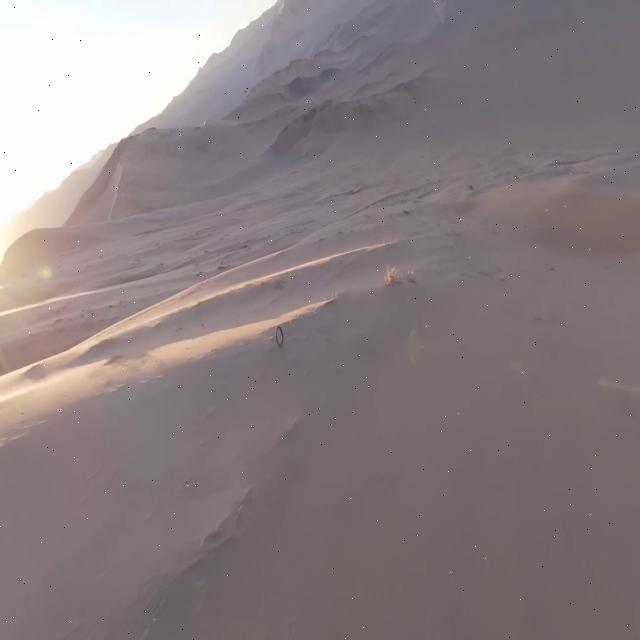Tire: (275, 325, 284, 347)
